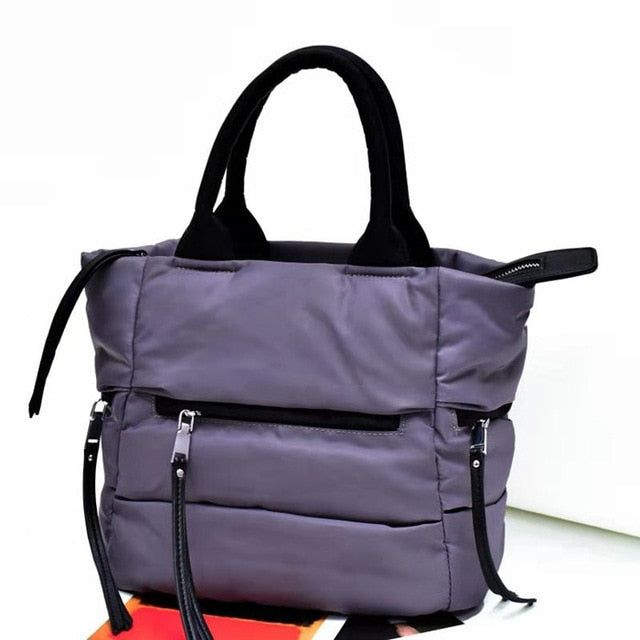nylon: (80, 240, 537, 620)
